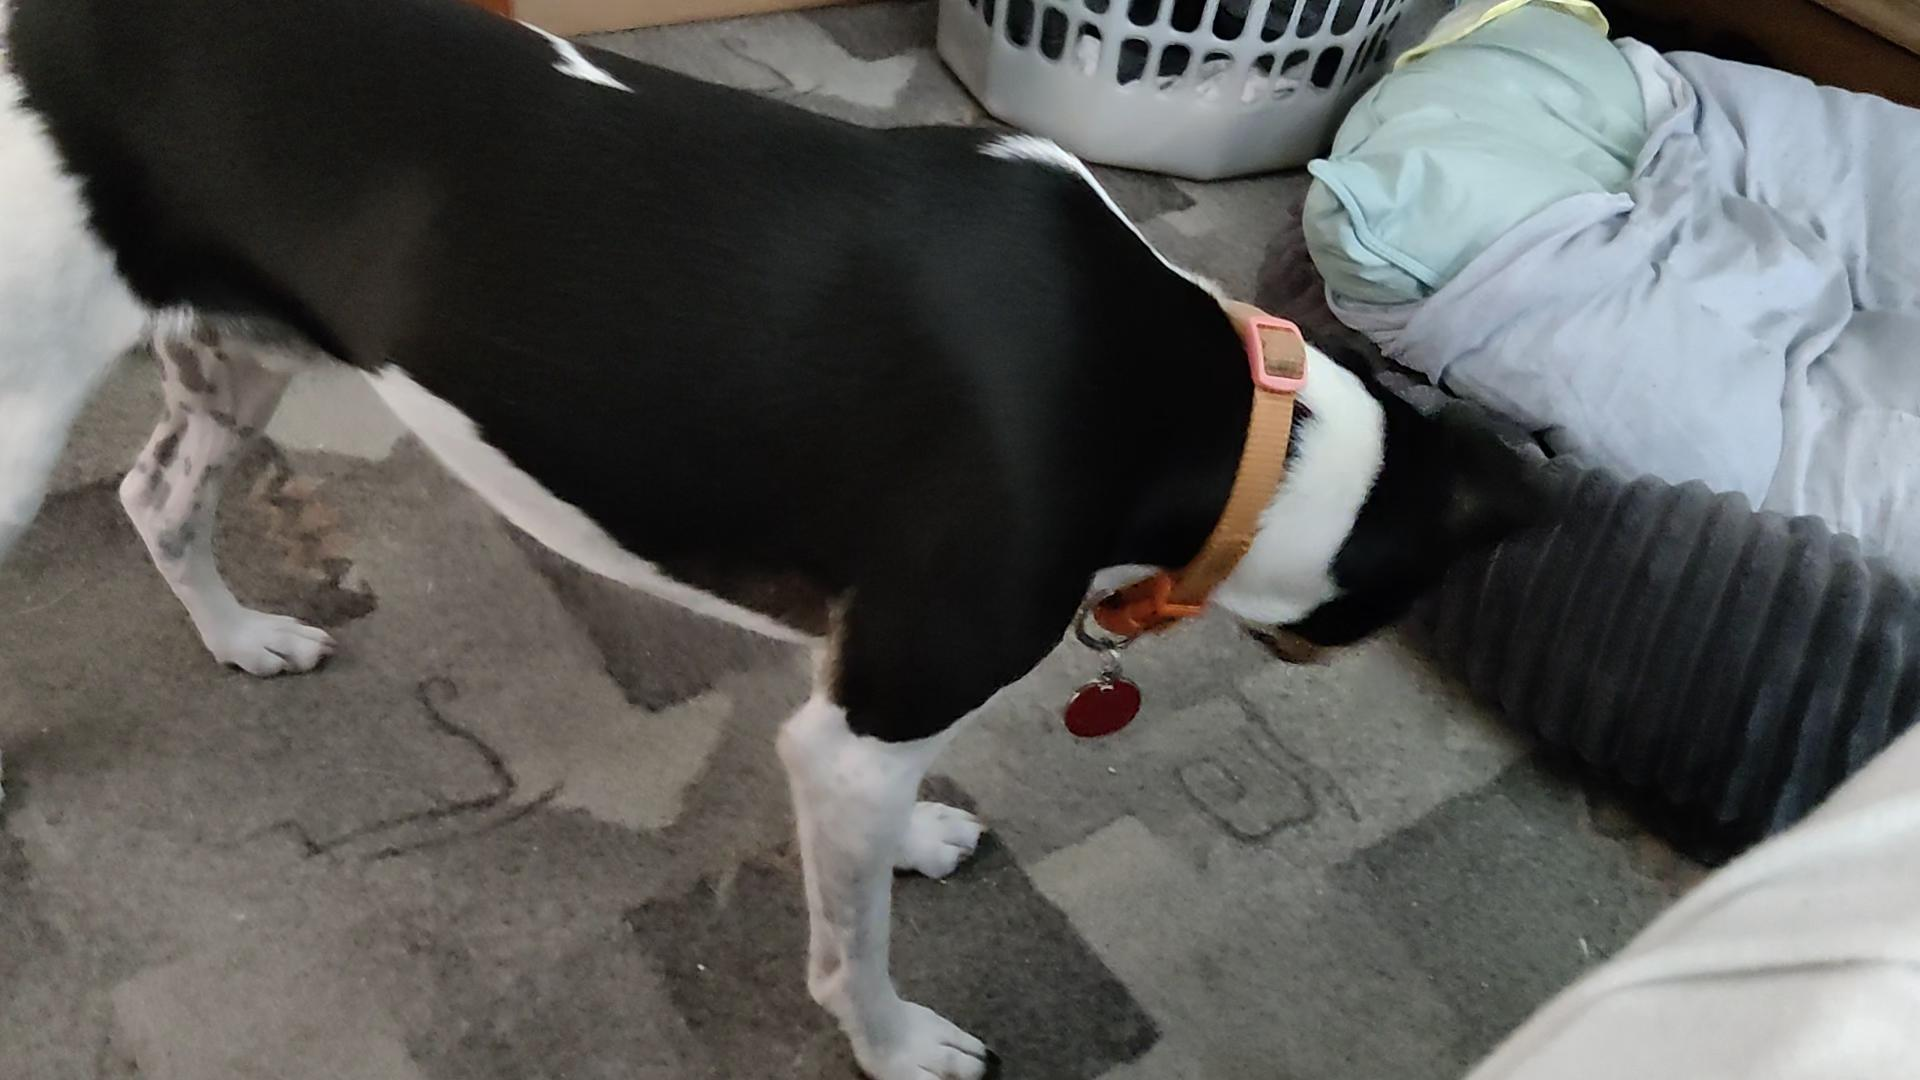Dog: (0, 0, 1576, 1079)
